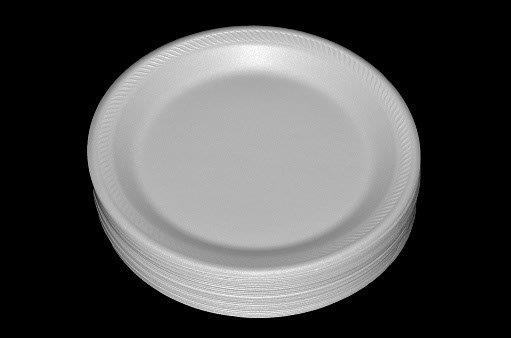sterofoam: (90, 28, 419, 317)
